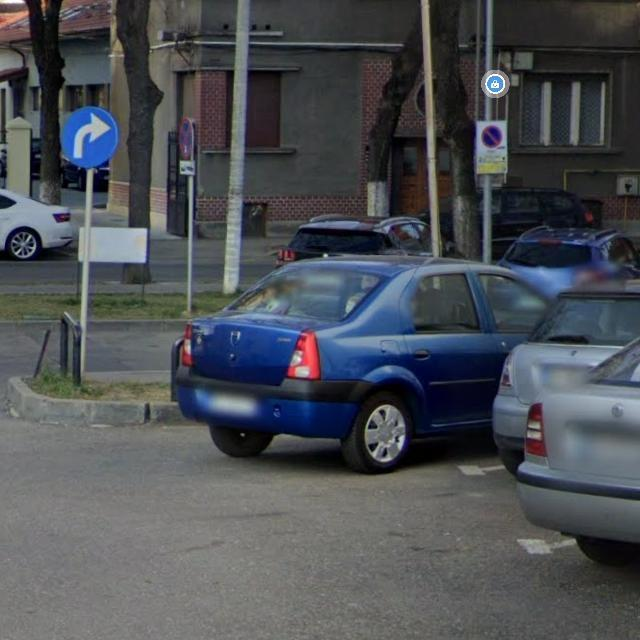forb_waiting: (178, 118, 196, 160)
